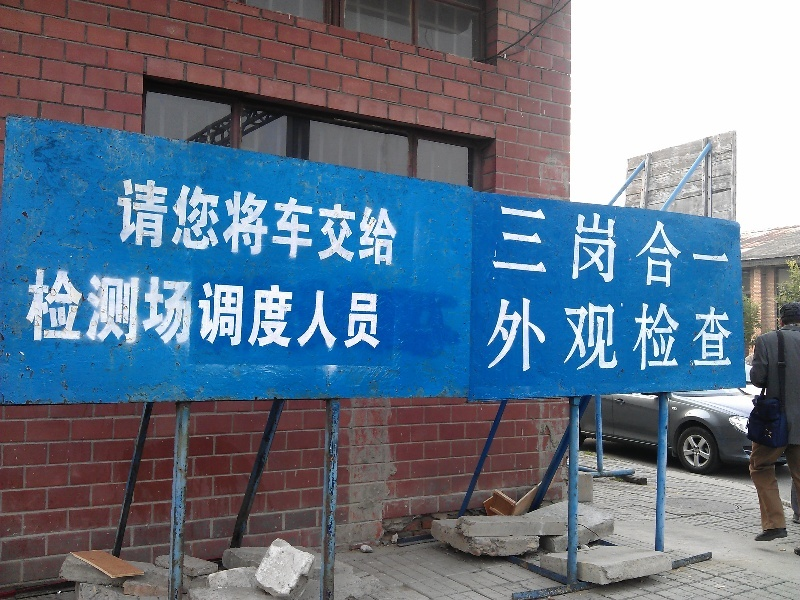text: (497, 200, 512, 297), (513, 200, 528, 297), (529, 200, 544, 297), (545, 200, 560, 297), (561, 200, 576, 297), (577, 200, 592, 297), (593, 200, 608, 297), (609, 200, 624, 297), (625, 200, 640, 297), (641, 200, 656, 297), (657, 200, 672, 297), (673, 200, 688, 297), (689, 200, 704, 297), (705, 200, 720, 297), (113, 176, 128, 268), (129, 176, 144, 268), (145, 176, 160, 268), (161, 176, 176, 268), (177, 176, 192, 268), (193, 176, 208, 268), (209, 176, 224, 268), (225, 176, 240, 268), (241, 176, 256, 268), (257, 176, 272, 268), (273, 176, 288, 268), (289, 176, 304, 268), (305, 176, 320, 268), (321, 176, 336, 268), (337, 176, 352, 268), (353, 176, 368, 268), (369, 176, 384, 268), (721, 288, 737, 373), (33, 265, 48, 355), (49, 265, 64, 355), (65, 265, 80, 355), (81, 265, 96, 355), (97, 265, 112, 355), (113, 265, 128, 355), (129, 265, 144, 355), (145, 265, 160, 355), (161, 265, 176, 355), (177, 265, 192, 355), (193, 265, 208, 355), (209, 265, 224, 355), (225, 265, 240, 355), (241, 265, 256, 355), (257, 265, 272, 355), (273, 265, 288, 355), (289, 265, 304, 355), (305, 265, 320, 355), (321, 265, 336, 355), (337, 265, 352, 355), (353, 265, 368, 355), (369, 265, 384, 355), (385, 176, 399, 268), (497, 288, 512, 373), (513, 288, 528, 373), (529, 288, 544, 373), (545, 288, 560, 373), (561, 288, 576, 373), (577, 288, 592, 373), (593, 288, 608, 373), (609, 288, 624, 373), (625, 288, 640, 373), (641, 288, 656, 373), (657, 288, 672, 373), (673, 288, 688, 373), (689, 288, 704, 373), (705, 288, 720, 373), (721, 200, 733, 297), (484, 288, 496, 373), (490, 200, 496, 297), (26, 265, 32, 355), (385, 265, 386, 355)
